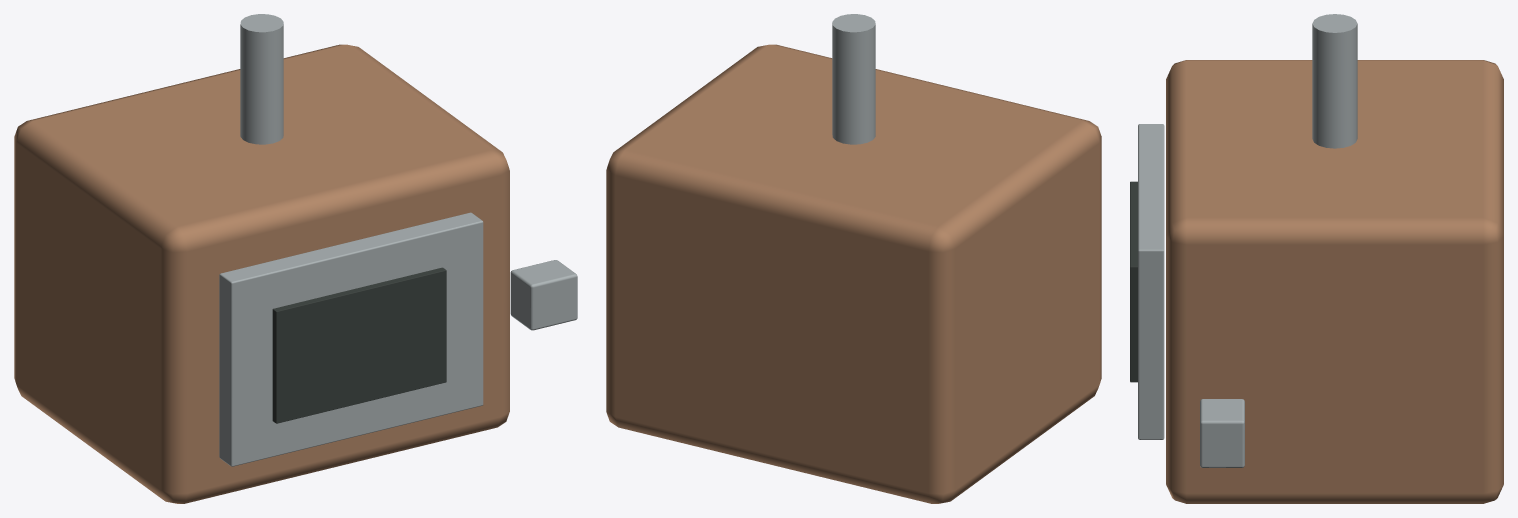
Rendered from research-and-crafting-progression-heat-treatment-box-34784039__2882.glb.
The picture shows the model from 3 angles, left to right: view 1: azimuth 30°, elevation 25°; view 2: azimuth 150°, elevation 25°; view 3: azimuth 270°, elevation 25°; orthographic projection. The views are drawn at different scales.
Visible parts, largest first — view 1: heat-treatment-box, door/metal; view 2: heat-treatment-box; view 3: heat-treatment-box, door/metal.
Boxes of the visible parts, x1,y1,x2,y2 form: heat-treatment-box: (14,14,577,503); door/metal: (219,212,483,466); heat-treatment-box: (606,14,1101,503); heat-treatment-box: (1130,14,1503,503); door/metal: (1138,124,1164,439).
Bounding box in the file's own units: 0.6725 × 0.59 × 0.498.
